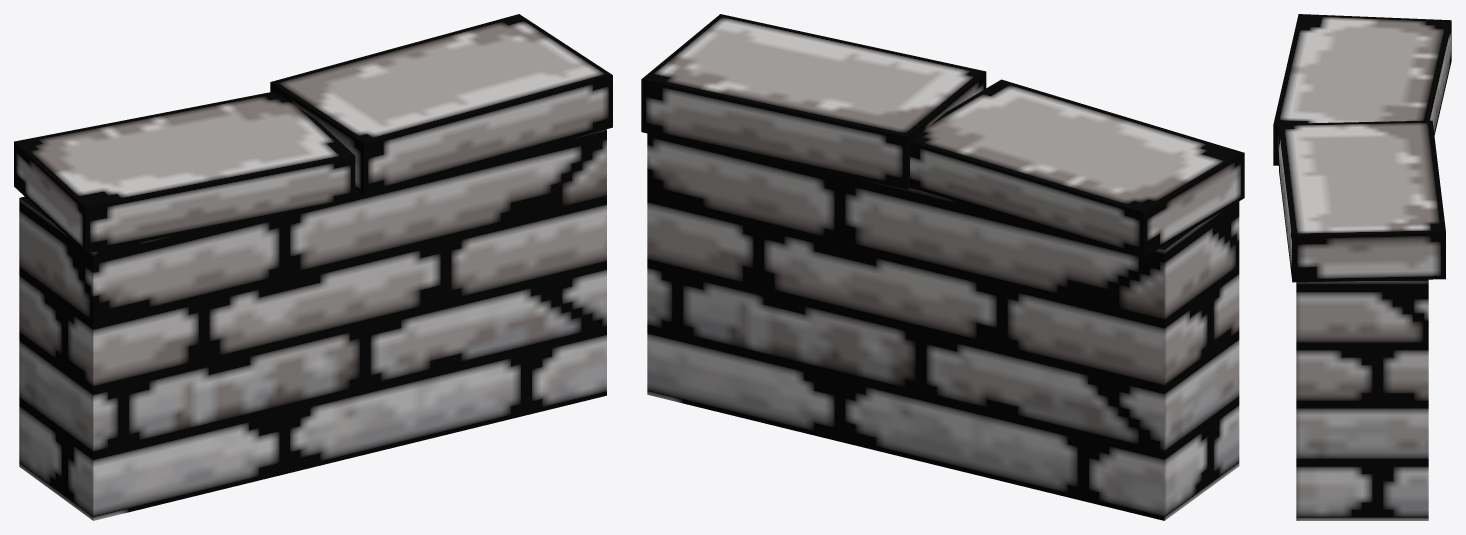
File: deco_winter_wall.FBX
3 renders of one model, left to right at view 1: azimuth 30°, elevation 25°; view 2: azimuth 150°, elevation 25°; view 3: azimuth 270°, elevation 25°, orthographic. The views are drawn at different scales.
Parts seen in each view (by area): view 1: deco_winter_wall; view 2: deco_winter_wall; view 3: deco_winter_wall.
Part boxes in pixels (x1,y1,x2,y2): deco_winter_wall: [14, 14, 612, 520]; deco_winter_wall: [641, 14, 1244, 520]; deco_winter_wall: [1273, 14, 1451, 520].
Size of the model in its own units: 2.04 by 1.2 by 0.6742.
Materials: 1 (1 with a texture image).
